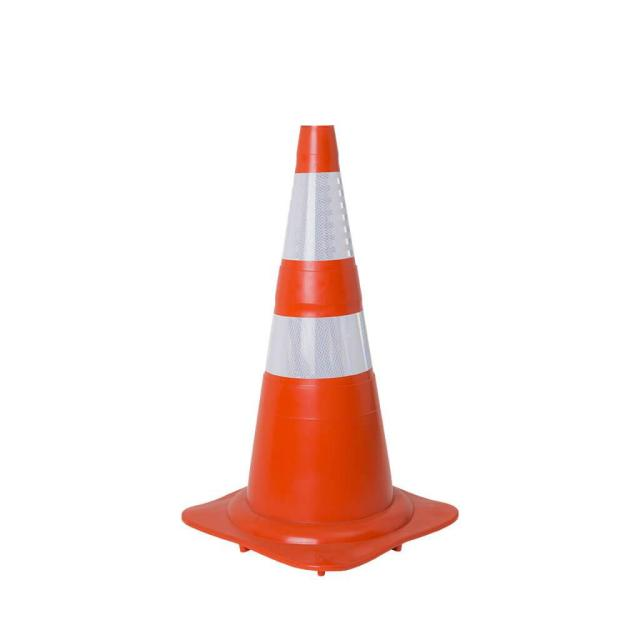cone: (192, 115, 473, 578)
